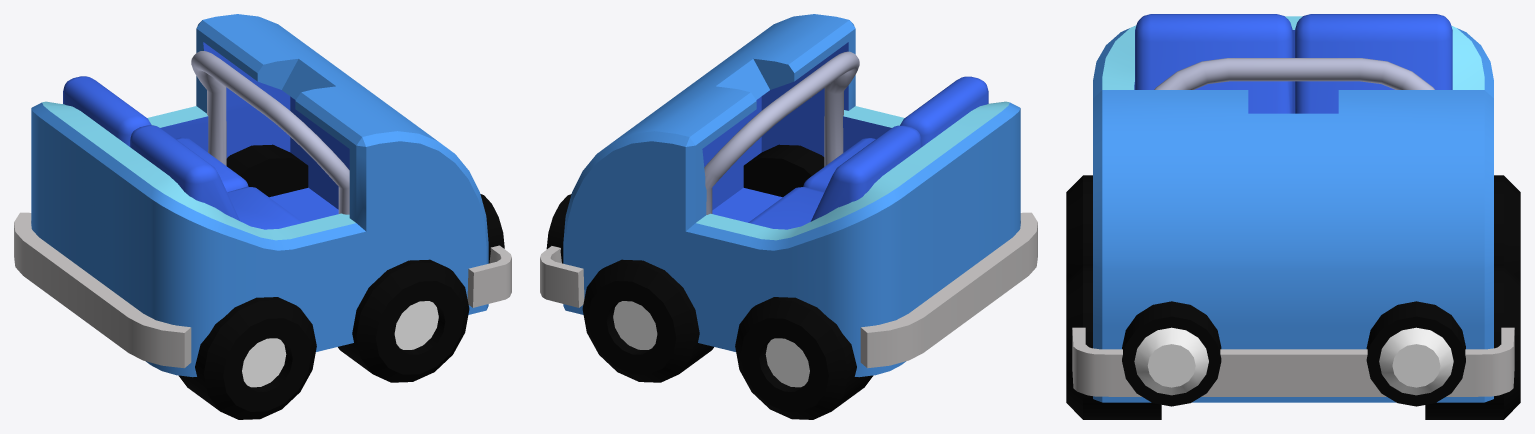
The model's file is Cart_5.fbx.
The picture shows the model from 3 angles, left to right: view 1: azimuth 30°, elevation 25°; view 2: azimuth 150°, elevation 25°; view 3: azimuth 270°, elevation 25°; orthographic projection. The views are drawn at different scales.
Parts seen in each view (by area): view 1: Cart_5; view 2: Cart_5; view 3: Cart_5.
Part boxes in pixels (box(x1,y1,x2,y2)): Cart_5: box(14, 14, 511, 419); Cart_5: box(540, 14, 1037, 419); Cart_5: box(1066, 14, 1520, 419).
Bounding box in the file's own units: 311 × 210 × 281.
